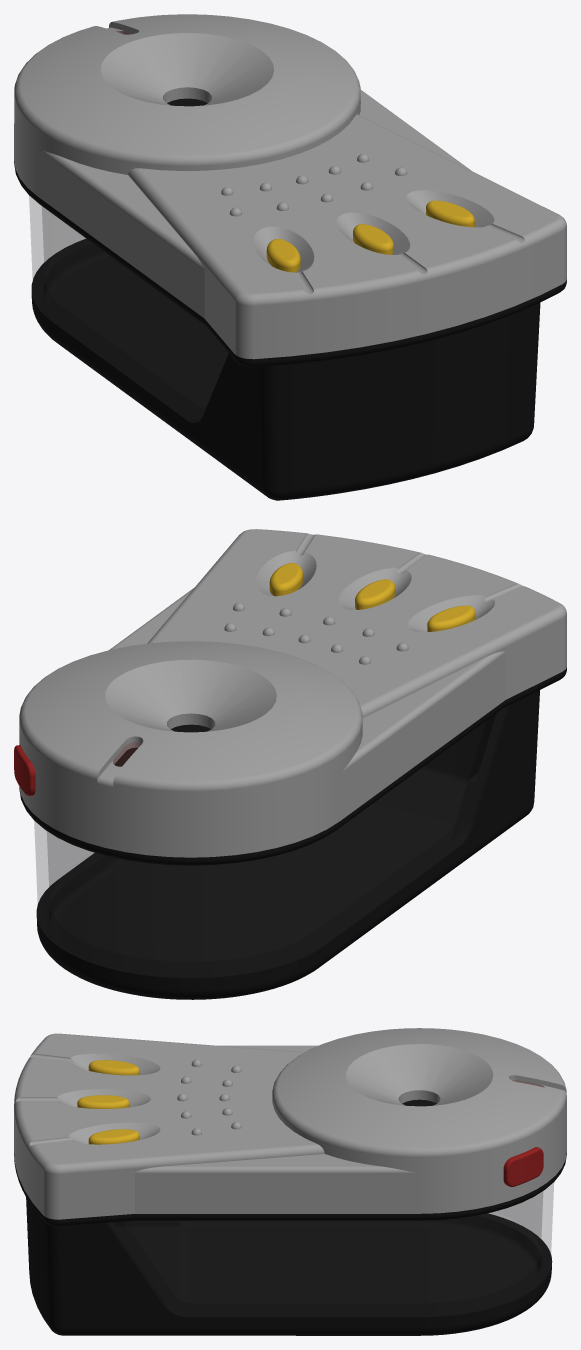
File: sharpener3D.glb
3 views of the same model, one above another, from view 1: azimuth 30°, elevation 25°; view 2: azimuth 150°, elevation 25°; view 3: azimuth 270°, elevation 25° (orthographic). The views are drawn at different scales.
Visible parts, largest first — view 1: body1, body3, dustcase, body2, SW3, SW2, SW1; view 2: body1, body3, dustcase, body2, SW2, SW1, SW3, SW; view 3: body1, body3, dustcase, body2, SW, SW1, SW3, SW2.
Part boxes in pixels (x1=…): body1: x1=14, y1=14, x2=566, y2=359; body3: x1=31, y1=239, x2=540, y2=500; dustcase: x1=29, y1=196, x2=228, y2=421; body2: x1=14, y1=98, x2=566, y2=367; SW3: x1=266, y1=238, x2=300, y2=272; SW2: x1=353, y1=224, x2=393, y2=254; SW1: x1=426, y1=200, x2=474, y2=227; body1: x1=19, y1=529, x2=566, y2=857; body3: x1=36, y1=690, x2=539, y2=999; dustcase: x1=34, y1=707, x2=506, y2=977; body2: x1=19, y1=667, x2=566, y2=865; SW2: x1=355, y1=579, x2=395, y2=609; SW1: x1=269, y1=563, x2=303, y2=596; SW3: x1=427, y1=605, x2=475, y2=631; SW: x1=14, y1=745, x2=35, y2=795; body1: x1=14, y1=1028, x2=566, y2=1219; body3: x1=26, y1=1197, x2=552, y2=1335; dustcase: x1=109, y1=1183, x2=553, y2=1316; body2: x1=14, y1=1099, x2=566, y2=1226; SW: x1=503, y1=1147, x2=543, y2=1186; SW1: x1=88, y1=1129, x2=139, y2=1144; SW3: x1=88, y1=1060, x2=139, y2=1075; SW2: x1=77, y1=1095, x2=129, y2=1108.
Bounding box in the file's own units: 0.0612 × 0.044 × 0.105.
